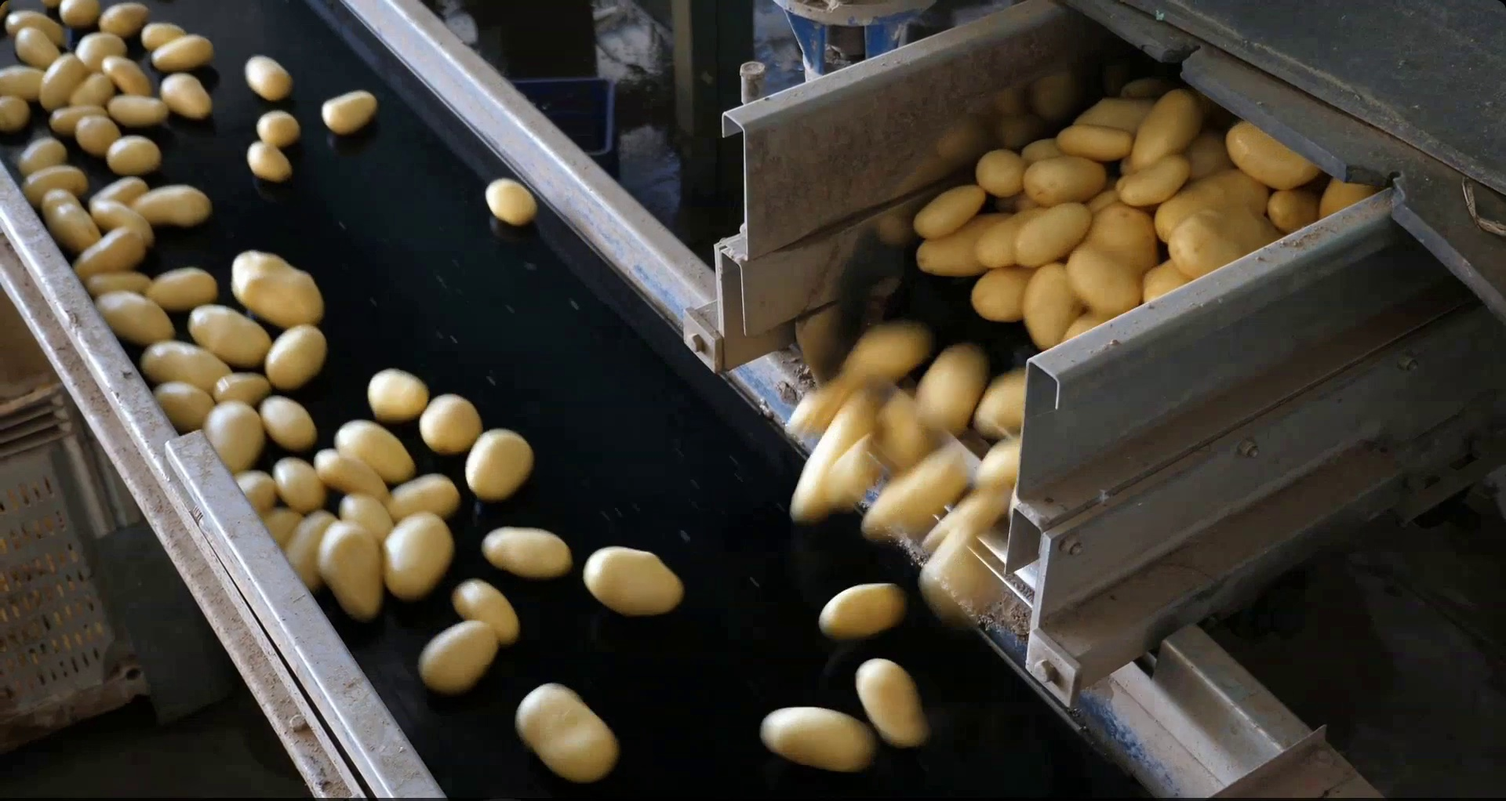potato: (784, 385, 904, 533), (507, 676, 626, 786), (855, 440, 973, 546), (1148, 164, 1272, 248), (1160, 203, 1290, 283), (578, 533, 692, 623), (748, 698, 879, 776), (222, 242, 329, 331), (920, 515, 1001, 628), (847, 651, 934, 754), (915, 475, 1022, 556), (311, 515, 387, 625), (324, 413, 426, 494), (912, 203, 1015, 283), (1221, 118, 1325, 196), (411, 611, 503, 699), (375, 507, 457, 603), (1127, 82, 1210, 176), (915, 337, 989, 441), (812, 574, 915, 647), (1079, 193, 1164, 281), (838, 310, 934, 386), (128, 331, 245, 393), (779, 358, 860, 444), (181, 295, 276, 368), (459, 424, 542, 506), (438, 572, 524, 650), (1008, 194, 1096, 270), (1059, 241, 1145, 317), (1016, 256, 1082, 353), (973, 198, 1054, 276), (904, 173, 991, 245), (311, 442, 399, 513), (414, 384, 489, 467), (278, 506, 342, 601), (476, 524, 575, 584), (1017, 150, 1115, 210), (263, 311, 333, 393), (199, 393, 264, 480), (960, 256, 1035, 326), (66, 223, 150, 285), (124, 180, 219, 234), (40, 180, 104, 258), (381, 467, 467, 524), (90, 292, 180, 346), (820, 437, 886, 510), (973, 362, 1035, 439), (145, 377, 223, 438), (1049, 115, 1138, 168), (1071, 92, 1169, 140), (1112, 150, 1194, 207), (336, 484, 400, 550), (11, 161, 93, 211), (365, 364, 431, 426), (268, 449, 327, 517), (1313, 171, 1383, 227), (257, 393, 319, 455), (140, 265, 224, 310), (315, 83, 381, 140), (478, 171, 541, 229), (971, 143, 1034, 201), (34, 49, 89, 115), (100, 87, 180, 130), (144, 30, 222, 74), (1049, 302, 1108, 359), (44, 98, 125, 139), (157, 71, 218, 125), (88, 197, 155, 245), (238, 49, 296, 104), (1134, 252, 1193, 306), (100, 129, 165, 176), (1, 5, 67, 51), (241, 134, 296, 189), (1183, 132, 1242, 183), (69, 27, 130, 76), (100, 48, 158, 99), (94, 1, 158, 45), (232, 462, 280, 520), (82, 263, 159, 299), (1264, 187, 1322, 234), (14, 132, 72, 178), (85, 171, 151, 210), (260, 501, 304, 554), (11, 25, 61, 71), (251, 105, 302, 150), (135, 18, 193, 57), (67, 67, 123, 107), (1, 60, 49, 106), (73, 110, 122, 155), (1, 87, 35, 145), (54, 1, 110, 33), (1013, 133, 1064, 168)
